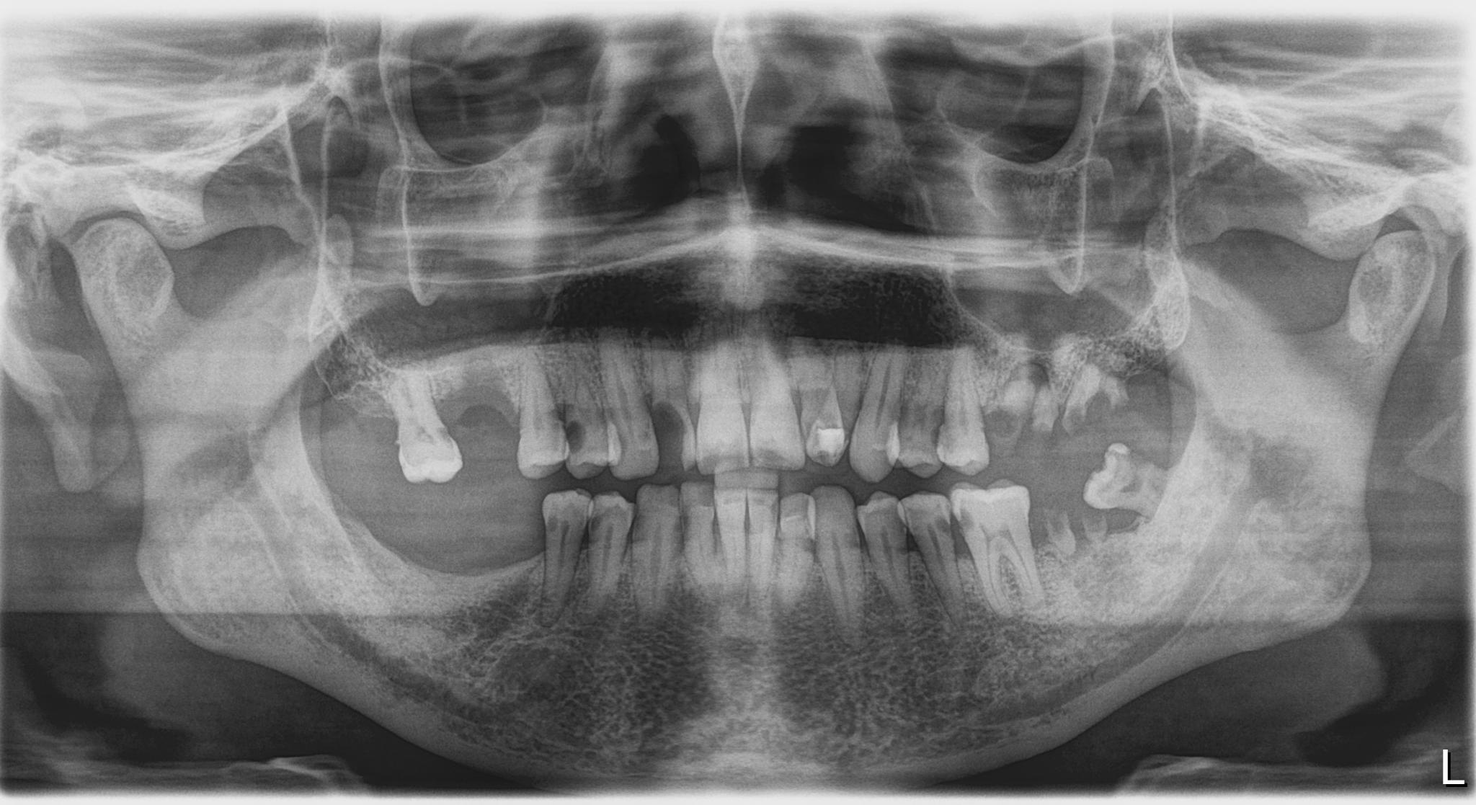Cyst: (375, 503, 547, 612), (295, 375, 401, 487)
Dental Caries: (652, 389, 697, 459)
Impacted Third Molar: (1087, 443, 1170, 506)
Missing Tooth: (1033, 489, 1102, 598), (1119, 346, 1194, 432)
Periapical Lesion: (446, 380, 533, 472)
Retained Root: (989, 366, 1114, 446)
